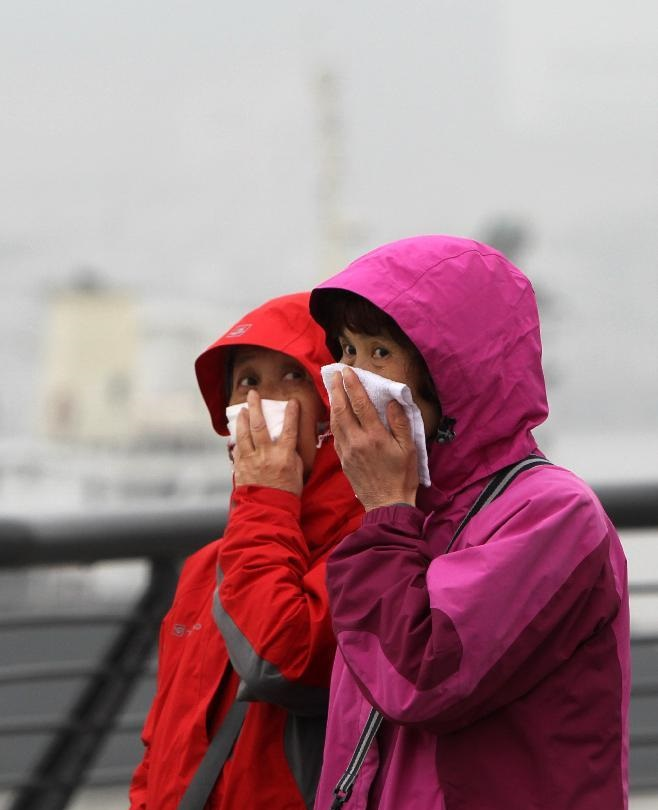face: (331, 331, 423, 454), (227, 358, 313, 480)
